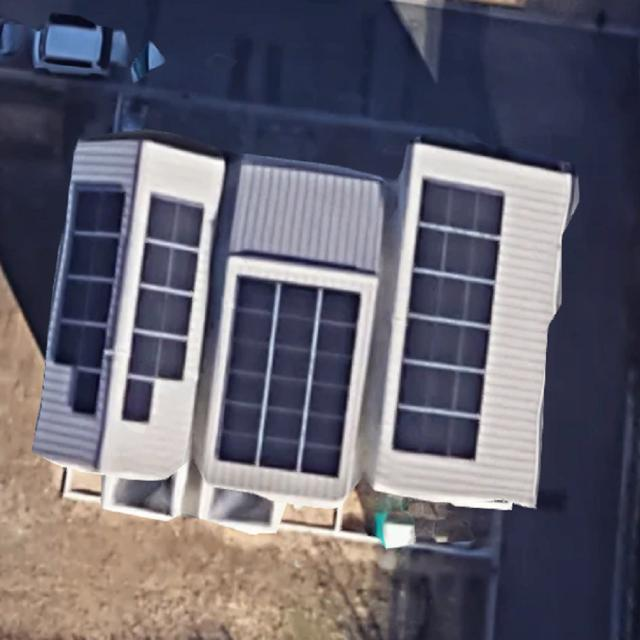Batiment: (366, 141, 576, 508), (34, 133, 225, 518), (195, 157, 384, 505)
